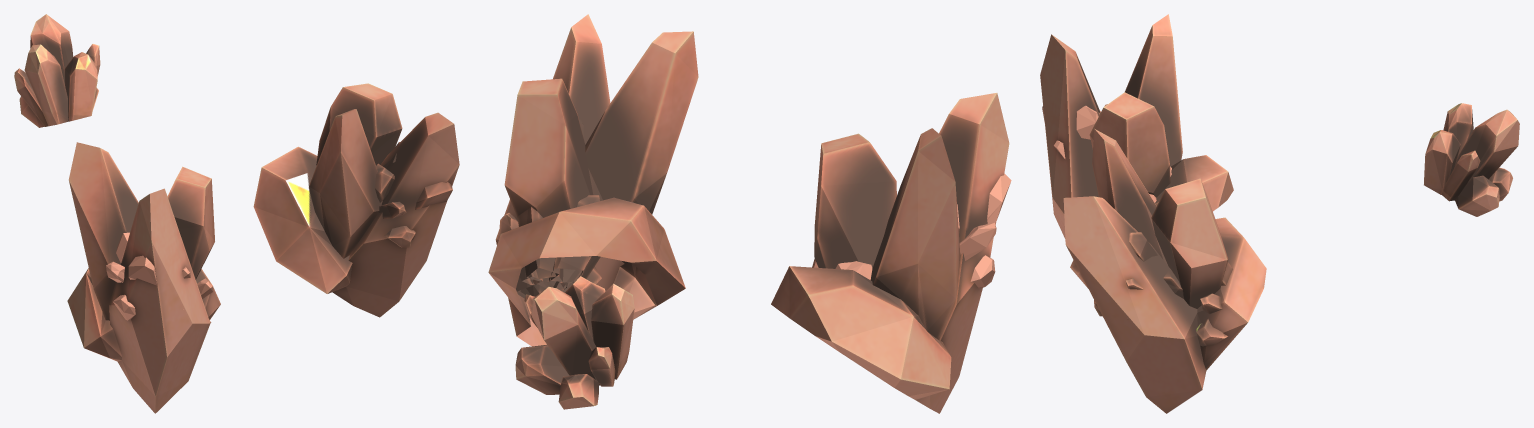
Rendered from mine.fbx.
3 views of the same model, side by side, from view 1: azimuth 30°, elevation 25°; view 2: azimuth 150°, elevation 25°; view 3: azimuth 270°, elevation 25° (orthographic). The views are drawn at different scales.
Visible parts, largest first — view 1: crystal.002_Baked; view 2: crystal.002_Baked; view 3: crystal.002_Baked.
Part boxes in pixels (left/top/right/bottom): crystal.002_Baked: left=14, top=14, right=459, bottom=413; crystal.002_Baked: left=488, top=14, right=1011, bottom=413; crystal.002_Baked: left=1040, top=14, right=1519, bottom=413.
Bounding box in the file's own units: 48.03 × 33.18 × 56.33.
Materials: 1 (1 with a texture image).
